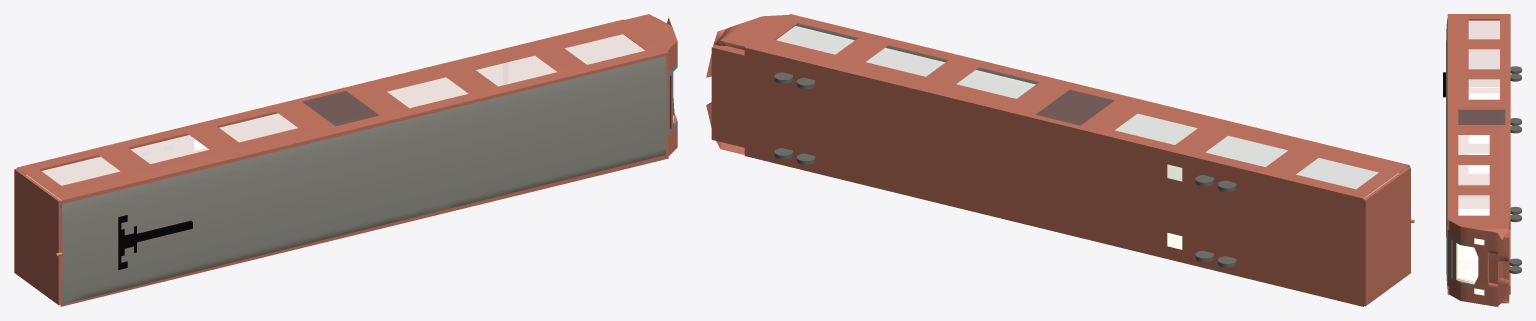
File: asset18.glb
3 renders of one model, left to right at view 1: azimuth 30°, elevation 25°; view 2: azimuth 150°, elevation 25°; view 3: azimuth 270°, elevation 25°, orthographic. The views are drawn at different scales.
Parts seen in each view (by area): view 1: Cylinder2, Cube1_copy12, Cube16, Cube19, Cube18, Cylinder13, Cube13_copy14, Cube13; view 2: Cube1_copy12, Cube16, Cylinder2, Cube19, Cube18, Cylinder13; view 3: Cube1_copy12, Cube16, Cylinder13, Cube19, Cube16_copy17, Cylinder2, Cube18, Cylinder4_copy10, Cylinder4_copy6, Cylinder4_copy8, Cylinder4_copy9, Cylinder4_copy5 (+4 smaller).
Boxes of the visible parts, left/top/right/bottom form: Cylinder2: left=60, top=56, right=666, bottom=306; Cube1_copy12: left=16, top=19, right=668, bottom=306; Cube16: left=26, top=34, right=644, bottom=200; Cube19: left=14, top=168, right=61, bottom=305; Cube18: left=503, top=34, right=645, bottom=84; Cylinder13: left=622, top=14, right=677, bottom=155; Cube13_copy14: left=118, top=215, right=136, bottom=269; Cube13: left=132, top=220, right=192, bottom=242; Cube1_copy12: left=744, top=14, right=1409, bottom=306; Cube16: left=776, top=26, right=1398, bottom=249; Cylinder2: left=792, top=23, right=1405, bottom=188; Cube19: left=1362, top=167, right=1410, bottom=306; Cube18: left=711, top=44, right=744, bottom=147; Cylinder13: left=706, top=14, right=792, bottom=154; Cube1_copy12: left=1447, top=14, right=1510, bottom=294; Cube16: left=1458, top=20, right=1499, bottom=280; Cylinder13: left=1447, top=219, right=1509, bottom=306; Cube19: left=1468, top=19, right=1499, bottom=86; Cube16_copy17: left=1456, top=243, right=1478, bottom=284; Cylinder2: left=1446, top=18, right=1447, bottom=288; Cube18: left=1502, top=229, right=1509, bottom=300; Cylinder4_copy10: left=1509, top=258, right=1521, bottom=266; Cylinder4_copy6: left=1509, top=266, right=1521, bottom=273; Cylinder4_copy8: left=1510, top=125, right=1521, bottom=133; Cylinder4_copy9: left=1510, top=73, right=1521, bottom=81; Cylinder4_copy5: left=1510, top=66, right=1521, bottom=73.
Bounding box in the file's own units: 0.978 × 0.1539 × 0.1471.
